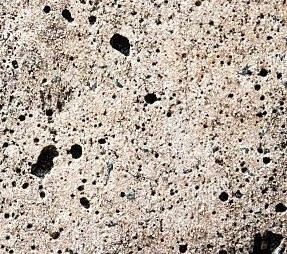Spalling: (1, 1, 287, 254)
